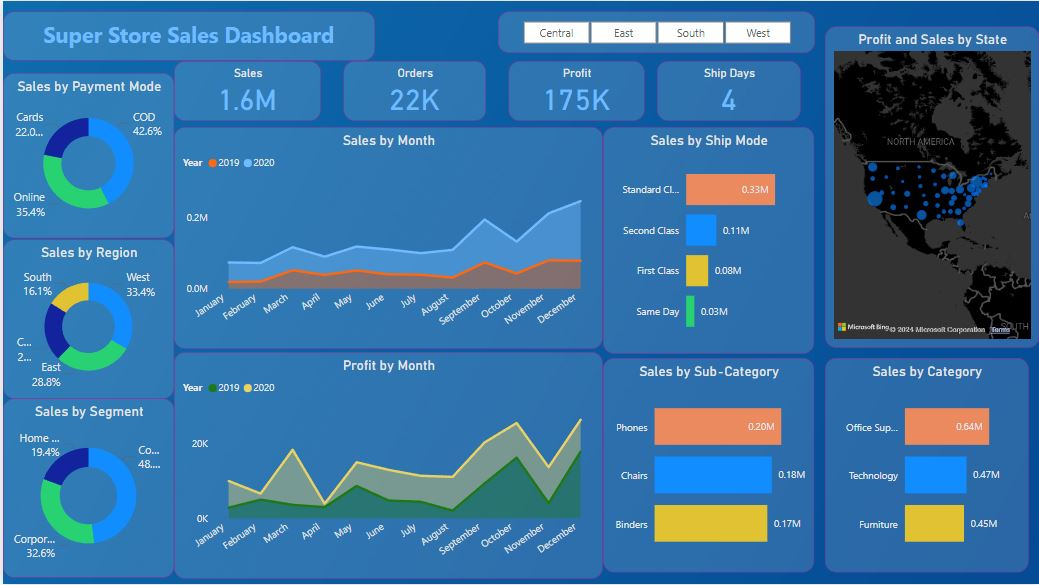

The dashboard page shown, as its layout file describes it:
{"tool":"powerbi","page":{"name":"Page 1","canvas":[1280,720],"ordinal":0},"visuals":[{"type":"clusteredBarChart","title":"Sales by Category","fields":{"Category":["Sheet1.Category"],"Y":["Sum(Sheet1.Sales)"]},"box":[1014.8,440.3,251.3,264.6],"z":0},{"type":"clusteredBarChart","title":"Sales by Sub-Category","fields":{"Category":["Sheet1.Sub-Category"],"Y":["Sum(Sheet1.Sales)"]},"box":[740.8,440.3,260.8,264.6],"z":1000},{"type":"clusteredBarChart","title":"Sales by Ship Mode","fields":{"Category":["Sheet1.Ship Mode"],"Y":["Sum(Sheet1.Sales)"]},"box":[740.8,155,260.8,279.7],"z":2000},{"type":"stackedAreaChart","title":"Sales by Month ","fields":{"Y":["Sum(Sheet1.Sales)"],"Category":["Sheet1.Order Date.Variation.Date Hierarchy.Month","Sheet1.Order Date.Variation.Date Hierarchy.Day"],"Series":["Sheet1.Order Date.Variation.Date Hierarchy.Year"]},"box":[211.7,155,529.1,274],"z":3000},{"type":"stackedAreaChart","title":"Profit by Month ","fields":{"Category":["Sheet1.Order Date.Variation.Date Hierarchy.Month","Sheet1.Order Date.Variation.Date Hierarchy.Day"],"Series":["Sheet1.Order Date.Variation.Date Hierarchy.Year"],"Y":["Sum(Sheet1.Profit)"]},"box":[211.7,432.8,529.1,279.7],"z":4000},{"type":"map","title":"Profit and Sales by State","fields":{"Category":["Sheet1.State"],"Size":["Sum(Sheet1.Sales)"]},"box":[1014.8,32.1,264.6,396.9],"z":5000},{"type":"donutChart","title":"Sales by Segment","fields":{"Category":["Sheet1.Segment"],"Y":["Sum(Sheet1.Sales)"]},"box":[0,491.3,211.7,221.1],"z":6000},{"type":"donutChart","title":"Sales by Payment Mode","fields":{"Category":["Sheet1.Payment Mode"],"Y":["Sum(Sheet1.Sales)"]},"box":[0,88.8,211.7,204.1],"z":7000},{"type":"donutChart","title":"Sales by Region","fields":{"Category":["Sheet1.Region"],"Y":["Sum(Sheet1.Sales)"]},"box":[0,294.8,211.7,196.5],"z":8000},{"type":"slicer","fields":{"Values":["Sheet1.Region"]},"box":[610.4,13.2,391.2,51],"z":9000},{"type":"textbox","box":[0,13.2,459.2,60.5],"z":10000},{"type":"card","title":"Sales","fields":{"Values":["Sum(Sheet1.Sales)"]},"box":[211.7,73.7,181.4,73.7],"z":11000},{"type":"card","title":"Orders","fields":{"Values":["Sum(Sheet1.Quantity)"]},"box":[419.5,73.7,175.7,73.7],"z":12000},{"type":"card","title":"Profit","fields":{"Values":["Sum(Sheet1.Profit)"]},"box":[623.6,73.7,168.2,73.7],"z":13000},{"type":"card","title":"Ship Days","fields":{"Values":["Avg(Sheet1.AvgDelivery)"]},"box":[806.9,73.7,177.6,73.7],"z":14000}]}

Visuals, with their boxes in screenshot pixels (x1, y1, x2, y2), scaled from the page's 1280x720 canvas onto the 1039x585 screenshot:
"Sales by Category" clusteredBarChart: crop(824, 358, 1028, 573)
"Sales by Sub-Category" clusteredBarChart: crop(601, 358, 813, 573)
"Sales by Ship Mode" clusteredBarChart: crop(601, 126, 813, 353)
"Sales by Month " stackedAreaChart: crop(172, 126, 601, 349)
"Profit by Month " stackedAreaChart: crop(172, 352, 601, 579)
"Profit and Sales by State" map: crop(824, 26, 1038, 349)
"Sales by Segment" donutChart: crop(0, 399, 172, 579)
"Sales by Payment Mode" donutChart: crop(0, 72, 172, 238)
"Sales by Region" donutChart: crop(0, 240, 172, 399)
slicer - Sheet1.Region: crop(495, 11, 813, 52)
textbox: crop(0, 11, 373, 60)
"Sales" card: crop(172, 60, 319, 120)
"Orders" card: crop(341, 60, 483, 120)
"Profit" card: crop(506, 60, 643, 120)
"Ship Days" card: crop(655, 60, 799, 120)
